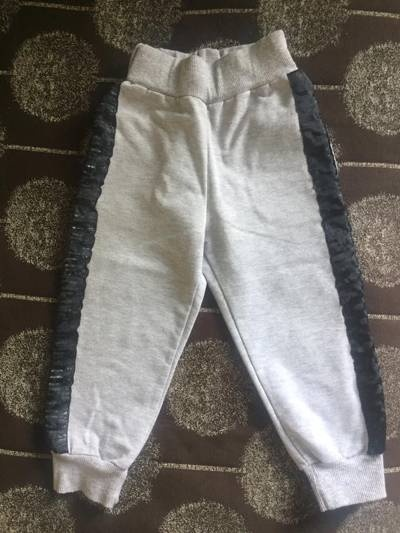Pants: (47, 15, 395, 498)
